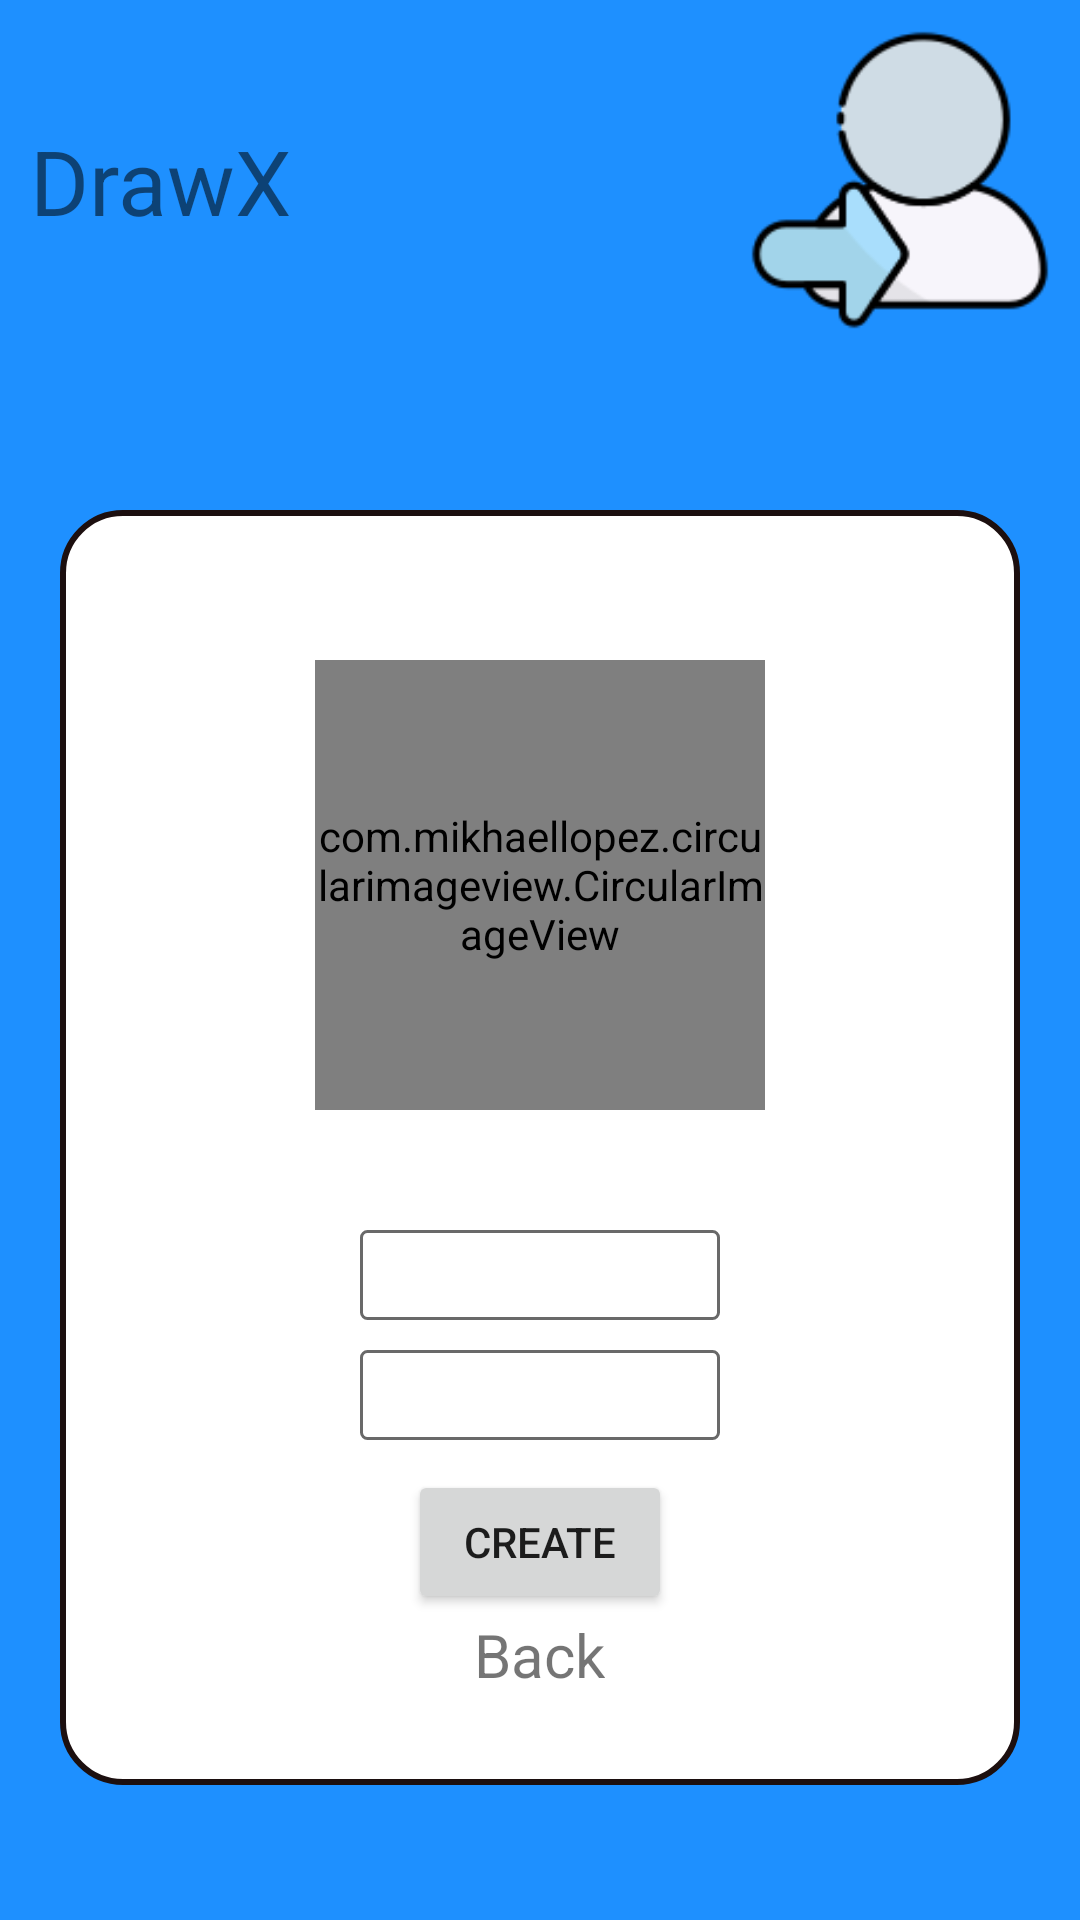

Where icons sit on this 1080 x 1920 app screen, as (x1, y1, x2, y2):
login: (751, 32, 1049, 328)
